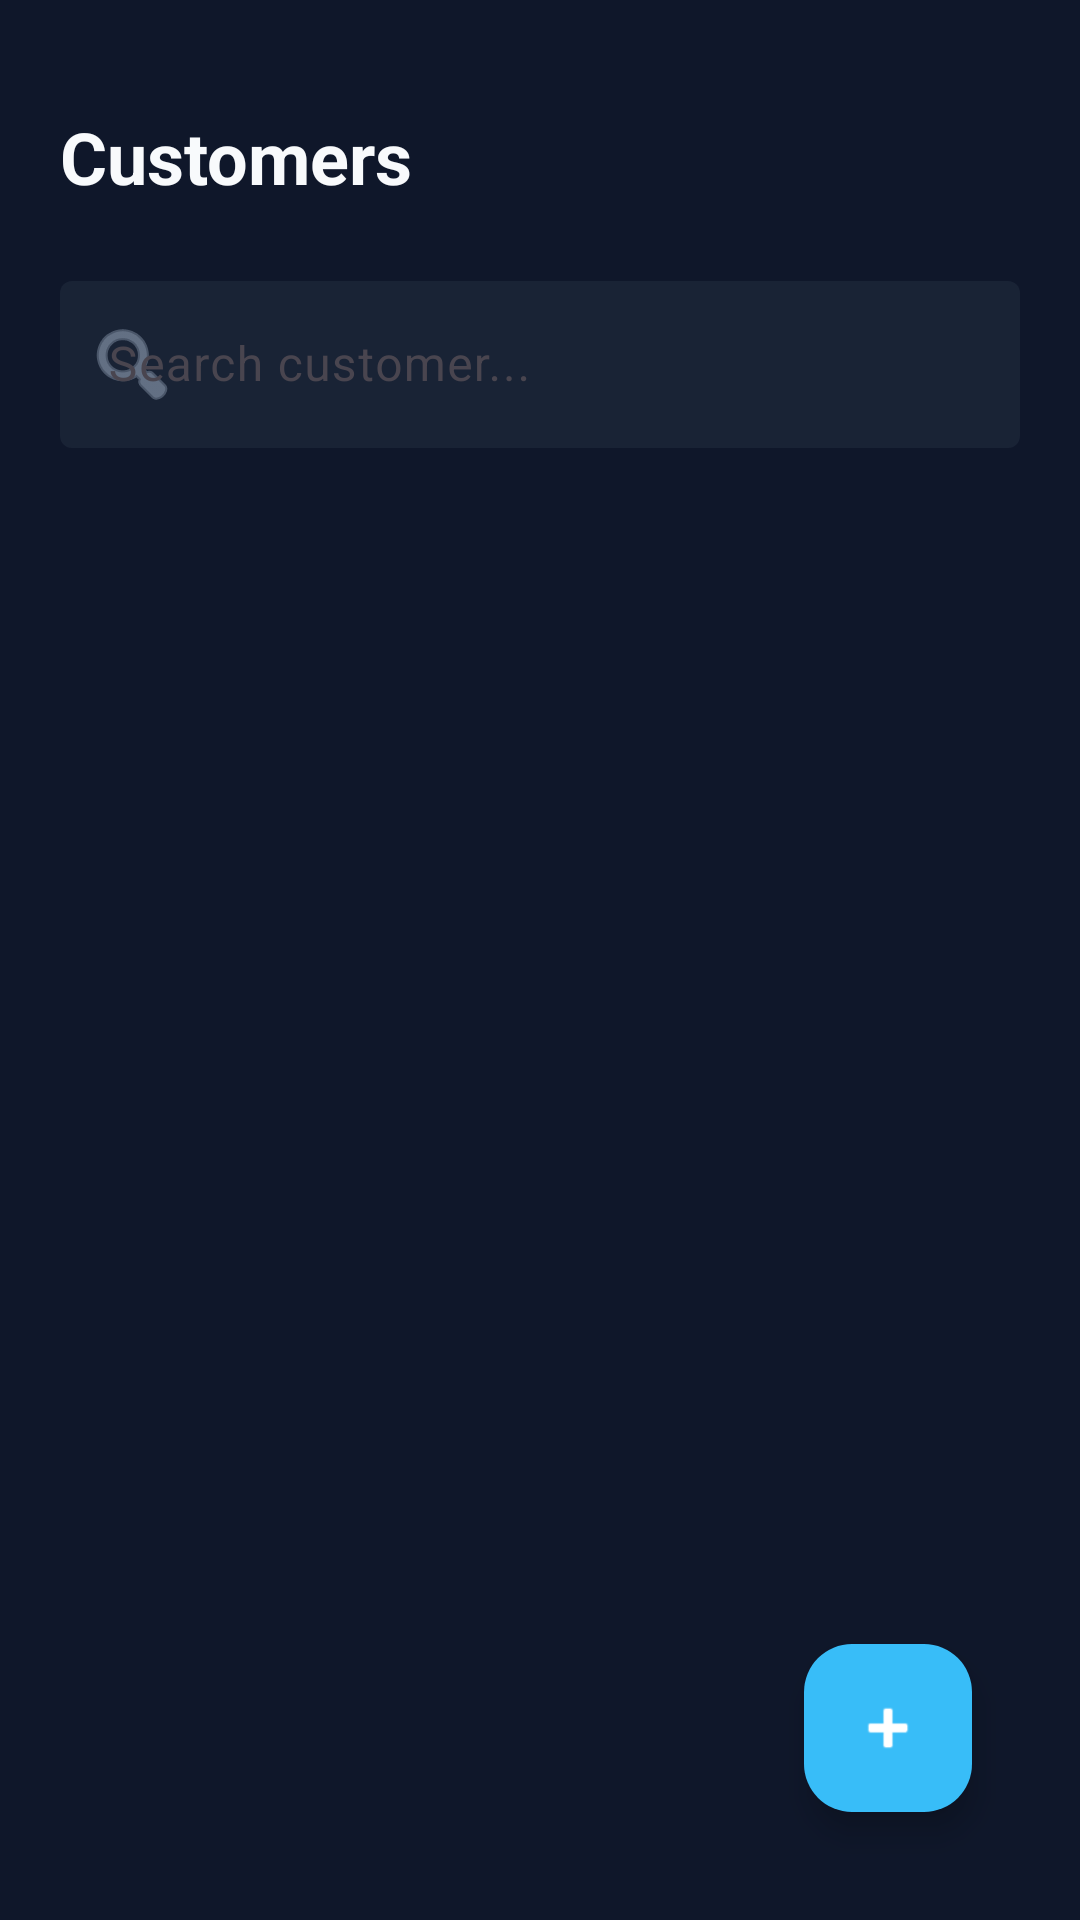

Locate icon controls on the screen. Image size 1080*1920, boxes as (x1, y1, x2, y2).
add: (804, 1644, 972, 1812)
